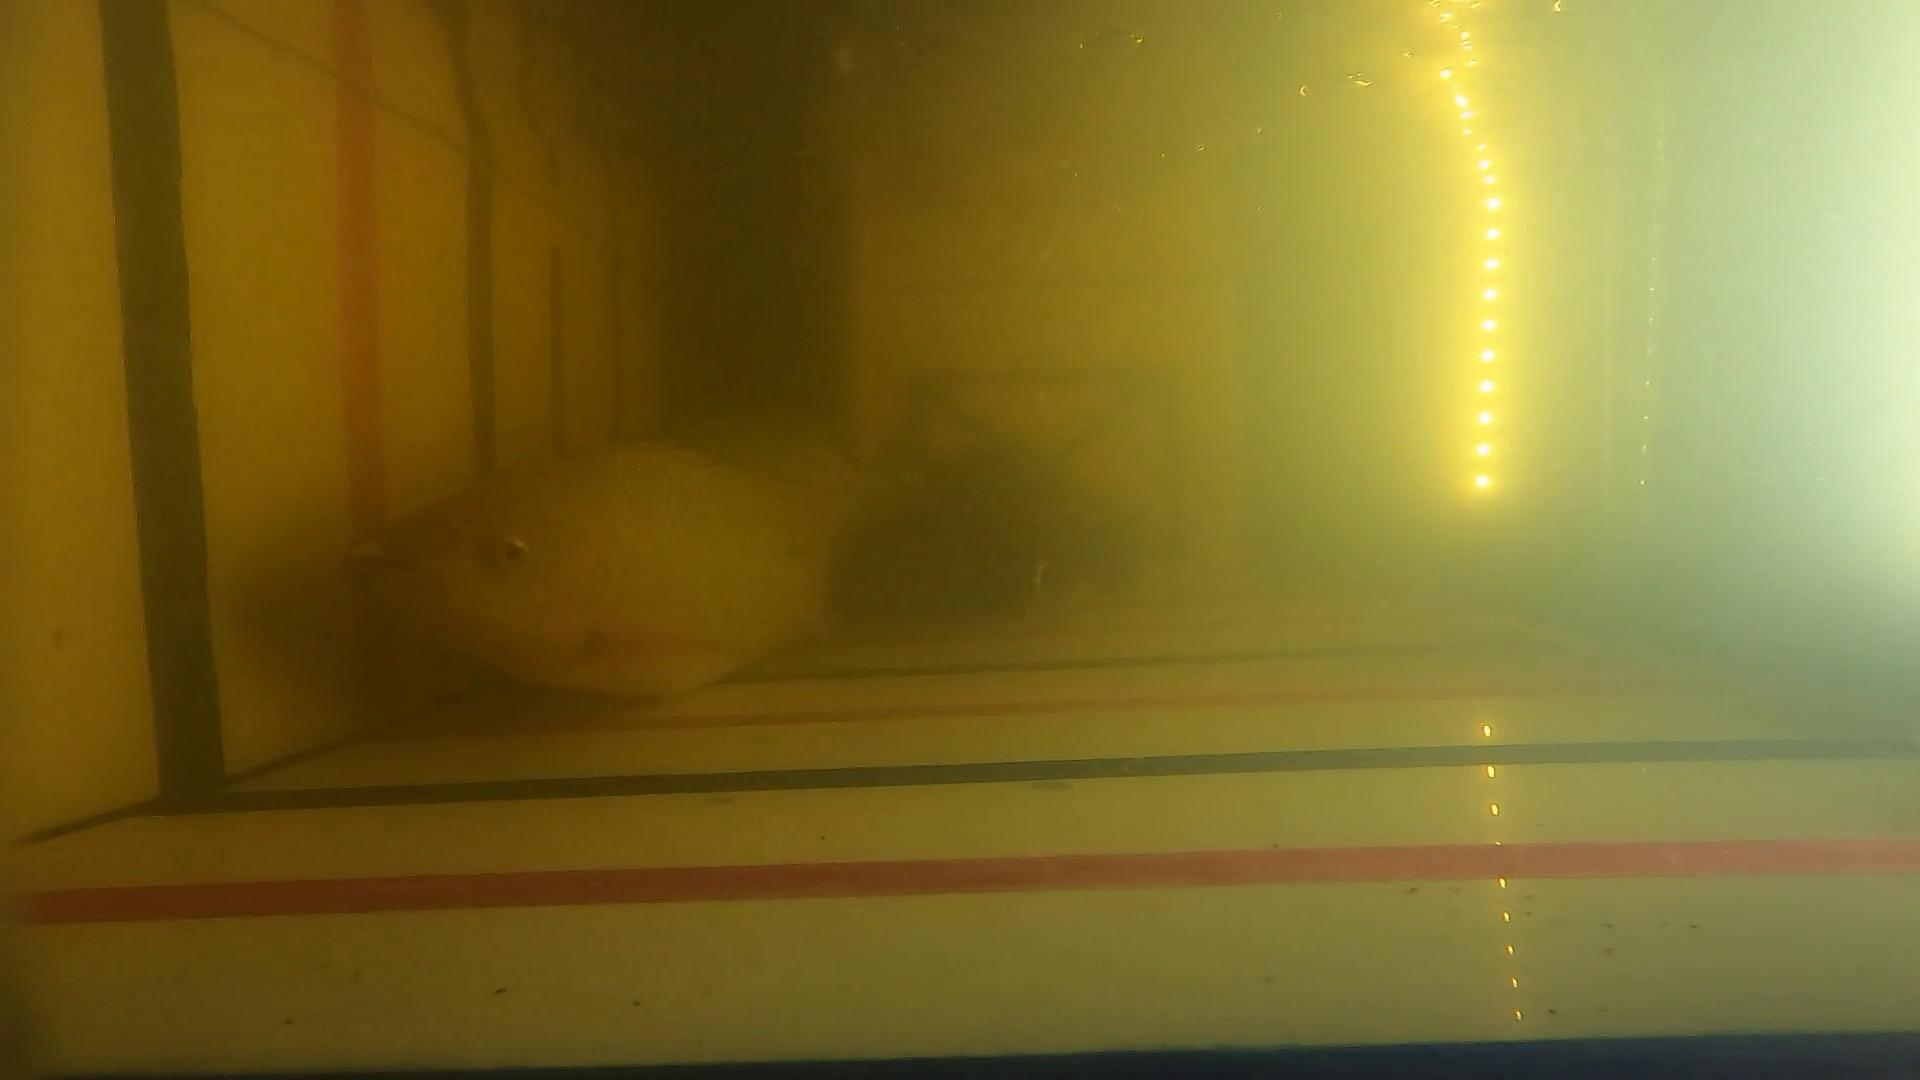Tilapia: (353, 423, 866, 704)
